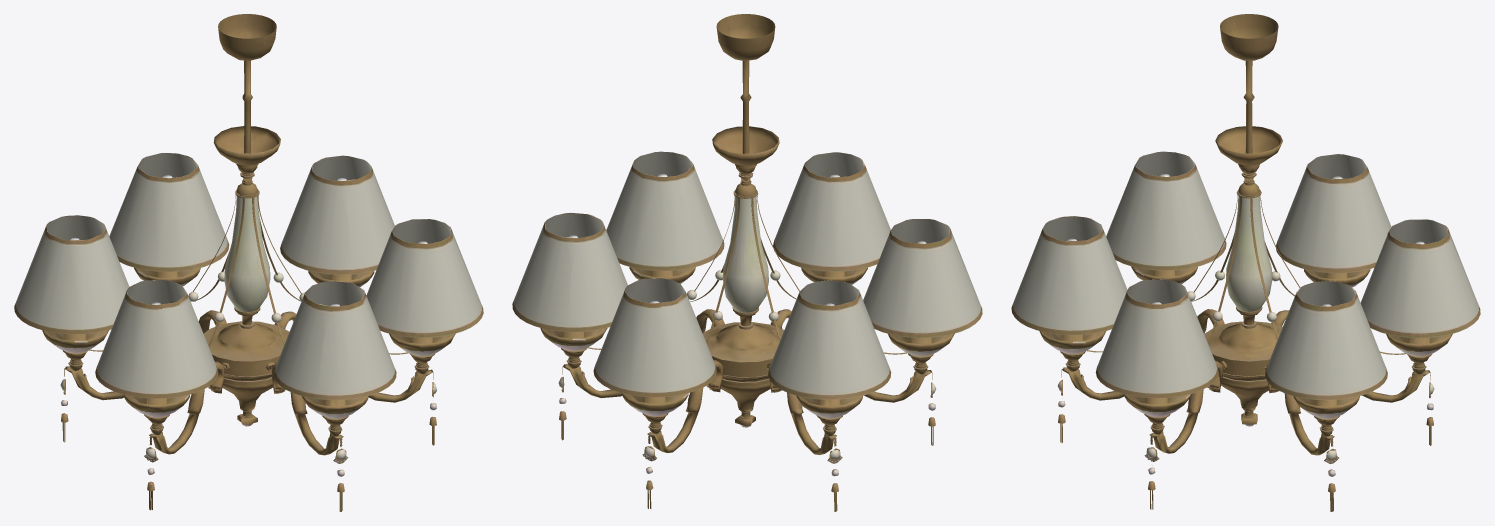
File: chandelier_01.glb
3 renders of one model, left to right at view 1: azimuth 30°, elevation 25°; view 2: azimuth 150°, elevation 25°; view 3: azimuth 270°, elevation 25°, orthographic.
Visible parts, largest first — view 1: Chandelier_01; view 2: Chandelier_01; view 3: Chandelier_01.
Boxes of the visible parts, x1,y1,x2,y2 form: Chandelier_01: (14, 14, 483, 511); Chandelier_01: (512, 14, 982, 511); Chandelier_01: (1011, 14, 1480, 511).
Bounding box in the file's own units: 0.7465 × 0.7983 × 0.8155.
2 materials, 1 textured.
